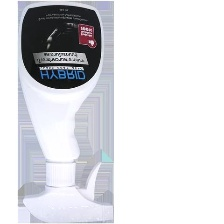cleaning_solution: (15, 0, 113, 224)
